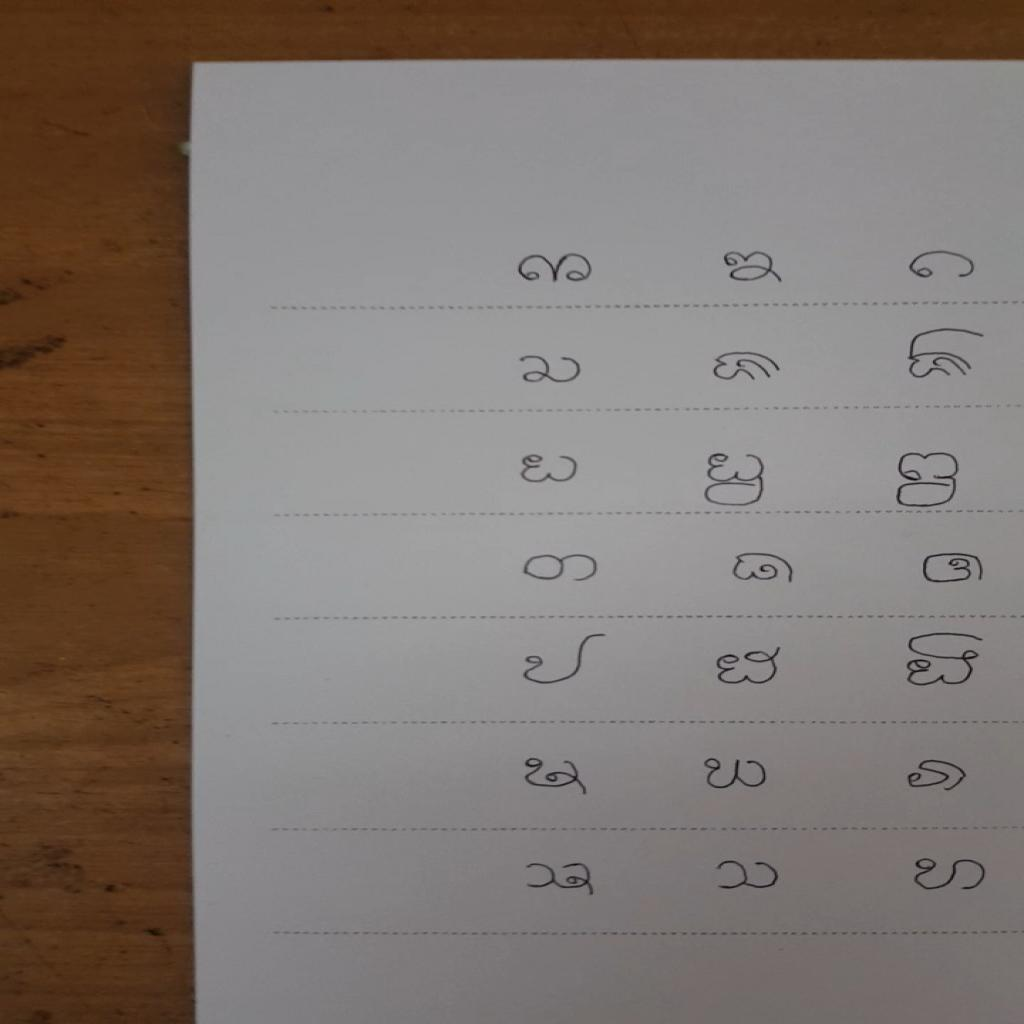LN001: (508, 250, 602, 288)
LN002: (718, 244, 790, 289)
LN003: (899, 245, 984, 284)
LN007: (513, 353, 588, 390)
LN008: (707, 348, 785, 388)
LN009: (900, 325, 990, 384)
LN013: (515, 450, 585, 488)
LN014: (698, 447, 770, 510)
LN015: (892, 447, 964, 510)
LN019: (516, 551, 606, 588)
LN020: (727, 549, 801, 588)
LN021: (916, 550, 989, 588)
LN025: (516, 630, 613, 690)
LN026: (710, 644, 786, 689)
LN027: (897, 630, 990, 692)
LN031: (516, 752, 593, 800)
LN032: (697, 755, 776, 795)
LN033: (897, 756, 975, 797)
LN037: (515, 856, 602, 902)
LN038: (707, 853, 790, 897)
LN039: (906, 852, 993, 897)
